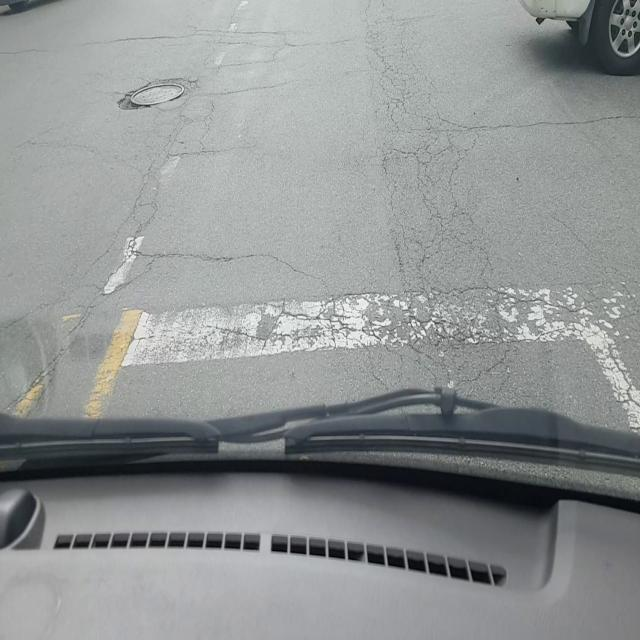Pothole: (116, 79, 186, 112)
